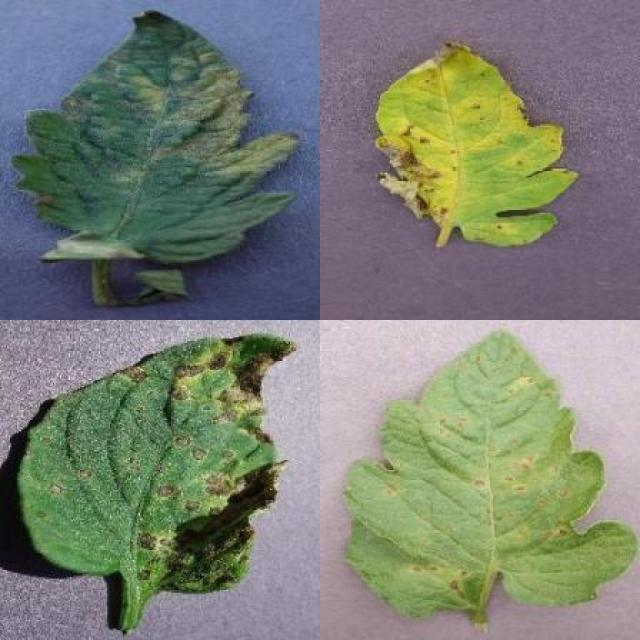Leaf Mold: (10, 7, 299, 263)
Septoria: (349, 329, 637, 617), (20, 333, 299, 593), (378, 42, 581, 248)
